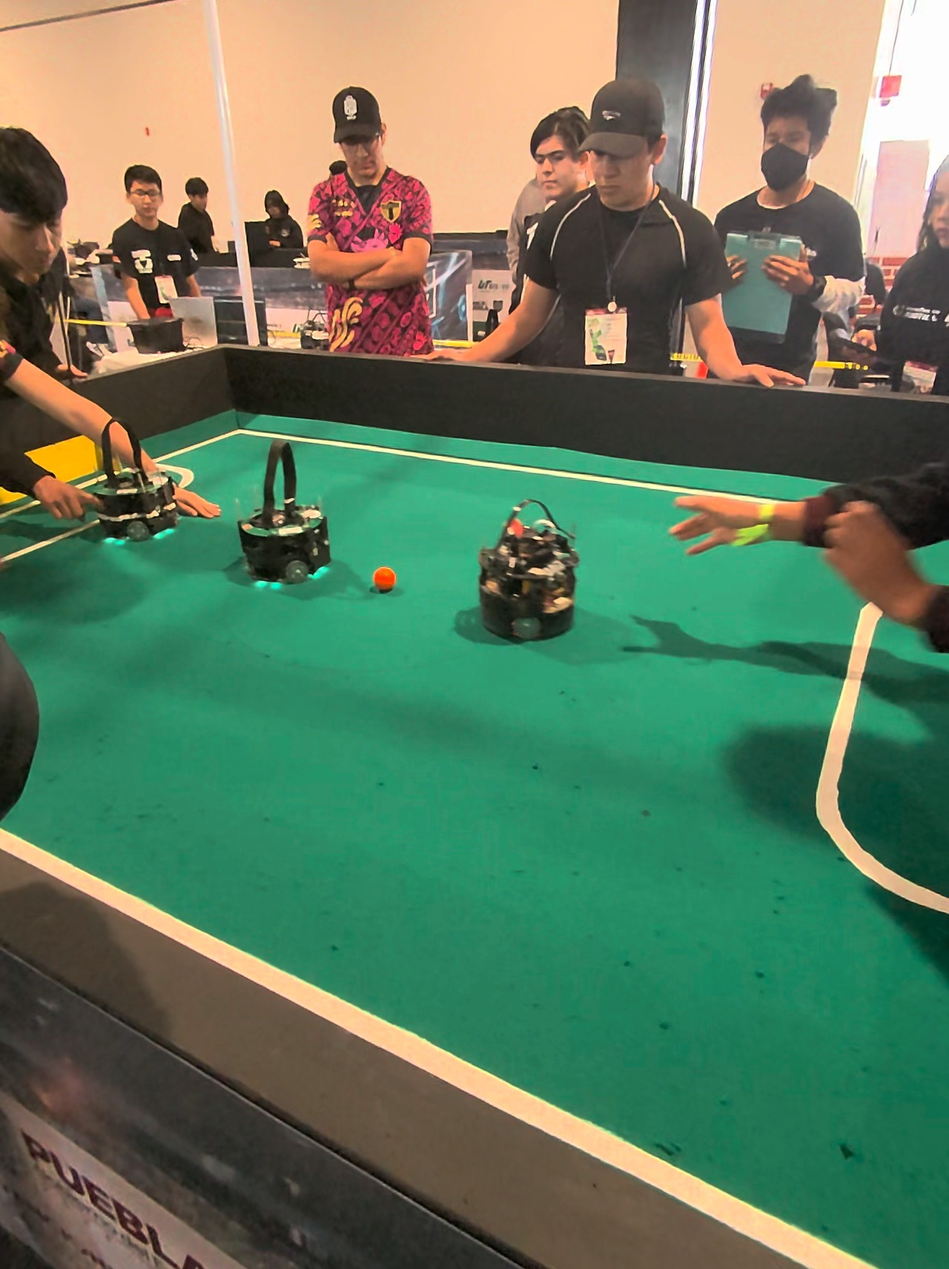Robot: (233, 425, 339, 608), (475, 498, 580, 646), (75, 414, 182, 548)
pelota: (372, 566, 397, 592)
